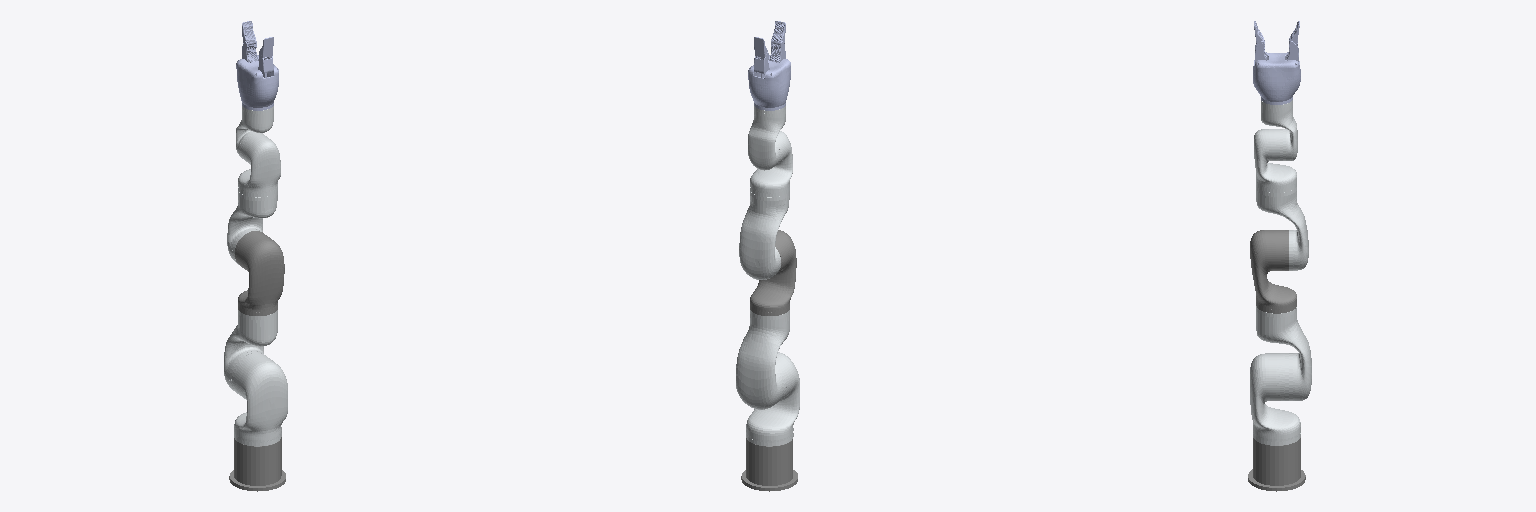
robot.urdf — mra7a:
<?xml version="1.0" ?>
<!-- =================================================================================== -->
<!-- |    modified by lmn        | -->
<!-- |    1.joint fixed's z = 0; old is 0.5                                            | -->
<!-- |    2.all joint limit: id2(2.35->2.18); id4(2.35->2.3); id6(2.35->2.05)         | -->
<!-- =================================================================================== -->


<!-- =================================================================================== -->
<!-- |    This document was autogenerated by xacro from mra7a_gazebo.urdf.xacro        | -->
<!-- |    EDITING THIS FILE BY HAND IS NOT RECOMMENDED                                 | -->
<!-- =================================================================================== -->
<robot name="mra7a" xmlns:xacro="http://www.ros.org/wiki/xacro">
  <!-- gazebo plugin -->
  <!-- transmission -->
  <!-- plugin -->
  <!-- ros_control plugin -->
  <gazebo>
    <plugin filename="libgazebo_ros_control.so" name="gazebo_ros_control">
      <robotNamespace>/seven_dof_arm</robotNamespace>
    </plugin>
  </gazebo>
  <!--
  <gazebo>
    <plugin name="joint_state_publisher" 
            filename="libgazebo_ros_joint_state_publisher.so">
      <jointName>Joint1, Joint2, Joint3, Joint4, Joint5, Joint6, Joint7, left_gripper_Joint, right_gripper_Joint</jointName>
    </plugin>
  </gazebo>
-->
  <link name="world"/>
  <!-- base_link -->
  <link name="base_link">
    <inertial>
      <origin rpy="0 0 0" xyz="1.58780600757876E-17 1.16524520215829E-17 0.042502057419515"/>
      <mass value="0.474965549491937"/>
      <inertia ixx="0.00102796097257156" ixy="3.04931861011564E-20" ixz="-2.46655622129667E-19" iyy="0.00102796097257156" iyz="-2.10531007350427E-19" izz="0.00113370981926284"/>
    </inertial>
    <visual>
      <origin rpy="0 0 0" xyz="0 0 0"/>
      <geometry>
        <mesh filename="package://mra7a_description/meshes/base_link.STL"/>
      </geometry>
      <material name="">
        <color rgba="0.6 0.6 0.6 1"/>
      </material>
    </visual>
    <collision>
      <origin rpy="0 0 0" xyz="0 0 0"/>
      <geometry>
        <mesh filename="package://mra7a_description/meshes/base_link.STL"/>
      </geometry>
    </collision>
  </link>
  <!-- Fixed joint -->
  <joint name="fixed" type="fixed">
    <origin rpy="0 0 0" xyz="0 0 0.0"/> <!--old Z is 0.5 -->
    <parent link="world"/>
    <child link="base_link"/>
  </joint>
  <!-- Link1 -->
  <link name="Link1">
    <inertial>
      <origin rpy="0 0 0" xyz="-5.67865757398612E-05 -0.0140433283731522 0.0860916007886425"/>
      <mass value="0.484821739605689"/>
      <inertia ixx="0.00190386145326369" ixy="-7.3188419055639E-08" ixz="-7.58568324322761E-07" iyy="0.00198491585396" iyz="-0.00012574957933702" izz="0.000907237431346532"/>
    </inertial>
    <visual>
      <origin rpy="0 0 0" xyz="0 0 0"/>
      <geometry>
        <mesh filename="package://mra7a_description/meshes/Link1.STL"/>
      </geometry>
      <material name="">
        <color rgba="0.898039215686275 0.917647058823529 0.929411764705882 1"/>
      </material>
    </visual>
    <collision>
      <origin rpy="0 0 0" xyz="0 0 0"/>
      <geometry>
        <mesh filename="package://mra7a_description/meshes/Link1.STL"/>
      </geometry>
    </collision>
  </link>
  <!-- Joint1 -->
  <joint name="Joint1" type="revolute">
    <origin rpy="0 0 0" xyz="0 0 0.0999"/>
    <parent link="base_link"/>
    <child link="Link1"/>
    <axis xyz="0 0 1"/>
    <limit effort="90" lower="-3.05" upper="3.05" velocity="1.31"/>
  </joint>
  <!-- Link2 -->
  <link name="Link2">
    <inertial>
      <origin rpy="0 0 0" xyz="-6.69829950373753E-06 -0.0688237660038895 0.0293828169205754"/>
      <mass value="0.451297334389399"/>
      <inertia ixx="0.00221375672762505" ixy="-2.28618652653104E-07" ixz="-5.69361377207988E-08" iyy="0.00086071914429245" iyz="0.000565127774492468" izz="0.00211087682023335"/>
    </inertial>
    <visual>
      <origin rpy="0 0 0" xyz="0 0 0"/>
      <geometry>
        <mesh filename="package://mra7a_description/meshes/Link2.STL"/>
      </geometry>
      <material name="">
        <color rgba="0.898039215686275 0.917647058823529 0.929411764705882 1"/>
      </material>
    </visual>
    <collision>
      <origin rpy="0 0 0" xyz="0 0 0"/>
      <geometry>
        <mesh filename="package://mra7a_description/meshes/Link2.STL"/>
      </geometry>
    </collision>
  </link>
  <!-- Joint2 -->
  <joint name="Joint2" type="revolute">
    <origin rpy="-1.5708 0 0" xyz="0 0 0.1341"/>
    <parent link="Link1"/>
    <child link="Link2"/>
    <axis xyz="0 0 1"/>
    <limit effort="90" lower="-2.18" upper="2.18" velocity="1.31"/>
  </joint>
  <!-- Link3 -->
  <link name="Link3">
    <inertial>
      <origin rpy="0 0 0" xyz="-1.6761782916957E-05 -0.014503818618556 0.0821858705585297"/>
      <mass value="0.374717774772796"/>
      <inertia ixx="0.00126530640796233" ixy="-1.62222439577013E-07" ixz="-3.93589373682424E-07" iyy="0.00128269848650926" iyz="-6.66770058678905E-05" izz="0.00052745105806111"/>
    </inertial>
    <visual>
      <origin rpy="0 0 0" xyz="0 0 0"/>
      <geometry>
        <mesh filename="package://mra7a_description/meshes/Link3.STL"/>
      </geometry>
      <material name="">
        <color rgba="0.6 0.6 0.6 1"/>
      </material>
    </visual>
    <collision>
      <origin rpy="0 0 0" xyz="0 0 0"/>
      <geometry>
        <mesh filename="package://mra7a_description/meshes/Link3.STL"/>
      </geometry>
    </collision>
  </link>
  <!-- Joint3 -->
  <joint name="Joint3" type="revolute">
    <origin rpy="1.5708 0 -1.1102E-16" xyz="0 -0.1659 0"/>
    <parent link="Link2"/>
    <child link="Link3"/>
    <axis xyz="0 0 1"/>
    <limit effort="67" lower="-3.05" upper="3.05" velocity="1.31"/>
  </joint>
  <!-- Link4 -->
  <link name="Link4">
    <inertial>
      <origin rpy="0 0 0" xyz="-1.12602407827841E-05 -0.0676246386478926 0.026015498826292"/>
      <mass value="0.304329731561178"/>
      <inertia ixx="0.00130027130717768" ixy="-1.42798909943852E-08" ixz="-1.53500377244814E-07" iyy="0.000492188219655464" iyz="0.000333857285617771" izz="0.00124617372894817"/>
    </inertial>
    <visual>
      <origin rpy="0 0 0" xyz="0 0 0"/>
      <geometry>
        <mesh filename="package://mra7a_description/meshes/Link4.STL"/>
      </geometry>
      <material name="">
        <color rgba="0.898039215686275 0.917647058823529 0.929411764705882 1"/>
      </material>
    </visual>
    <collision>
      <origin rpy="0 0 0" xyz="0 0 0"/>
      <geometry>
        <mesh filename="package://mra7a_description/meshes/Link4.STL"/>
      </geometry>
    </collision>
  </link>
  <!-- Joint4 -->
  <joint name="Joint4" type="revolute">
    <origin rpy="-1.5708 1.1102E-16 1.3617E-16" xyz="0 0 0.1261"/>
    <parent link="Link3"/>
    <child link="Link4"/>
    <axis xyz="0 0 1"/>
    <limit effort="67" lower="-2.3" upper="2.3" velocity="1.31"/>
  </joint>
  <!-- Link5 -->
  <link name="Link5">
    <inertial>
      <origin rpy="0 0 0" xyz="-3.06274495444802E-05 -0.0108974394200068 0.0523693738754832"/>
      <mass value="0.213409797645465"/>
      <inertia ixx="0.000440858123321773" ixy="1.44479438568004E-07" ixz="9.31649373938296E-08" iyy="0.000436913304189732" iyz="-5.42340102456064E-05" izz="0.000258832985468246"/>
    </inertial>
    <visual>
      <origin rpy="0 0 0" xyz="0 0 0"/>
      <geometry>
        <mesh filename="package://mra7a_description/meshes/Link5.STL"/>
      </geometry>
      <material name="">
        <color rgba="0.898039215686275 0.917647058823529 0.929411764705882 1"/>
      </material>
    </visual>
    <collision>
      <origin rpy="0 0 0" xyz="0 0 0"/>
      <geometry>
        <mesh filename="package://mra7a_description/meshes/Link5.STL"/>
      </geometry>
    </collision>
  </link>
  <!-- Joint5 -->
  <joint name="Joint5" type="revolute">
    <origin rpy="1.5708 1.3617E-16 8.3267E-16" xyz="0 -0.1511 0"/>
    <parent link="Link4"/>
    <child link="Link5"/>
    <axis xyz="0 0 1"/>
    <limit effort="67" lower="-3.05" upper="3.05" velocity="1.57"/>
  </joint>
  <!-- Link6 -->
  <link name="Link6">
    <inertial>
      <origin rpy="0 0 0" xyz="6.35965394519631E-05 -0.0464874244752261 0.0142268710300685"/>
      <mass value="0.154125590195249"/>
      <inertia ixx="0.000339720264711383" ixy="-3.43204817014535E-07" ixz="-2.31101462550568E-07" iyy="0.000149787039342989" iyz="7.62748033955854E-05" izz="0.000332976766047"/>
    </inertial>
    <visual>
      <origin rpy="0 0 0" xyz="0 0 0"/>
      <geometry>
        <mesh filename="package://mra7a_description/meshes/Link6.STL"/>
      </geometry>
      <material name="">
        <color rgba="0.898039215686275 0.917647058823529 0.929411764705882 1"/>
      </material>
    </visual>
    <collision>
      <origin rpy="0 0 0" xyz="0 0 0"/>
      <geometry>
        <mesh filename="package://mra7a_description/meshes/Link6.STL"/>
      </geometry>
    </collision>
  </link>
  <!-- Joint6 -->
  <joint name="Joint6" type="revolute">
    <origin rpy="-1.5708 -8.3267E-16 1.3617E-16" xyz="0 0 0.0909"/>
    <parent link="Link5"/>
    <child link="Link6"/>
    <axis xyz="0 0 1"/>
    <limit effort="67" lower="-2.05" upper="2.05" velocity="1.57"/>
  </joint>
  <!-- Link7 -->
  <link name="Link7">
    <inertial>
      <origin rpy="0 0 0" xyz="3.92549564291853E-05 -1.41203694746798E-07 0.0458459470285104"/>
      <mass value="0.0893166549830954"/>
      <inertia ixx="0.000137053323762152" ixy="-1.67918184744521E-08" ixz="7.94795260497552E-08" iyy="0.000116218332092996" iyz="1.55881544355394E-09" izz="0.000111067976303793"/>
    </inertial>
    <visual>
      <origin rpy="0 0 0" xyz="0 0 0"/>
      <geometry>
        <mesh filename="package://mra7a_description/meshes/Link7.STL"/>
      </geometry>
      <material name="">
        <color rgba="0.792156862745098 0.819607843137255 0.933333333333333 1"/>
      </material>
    </visual>
    <collision>
      <origin rpy="0 0 0" xyz="0 0 0"/>
      <geometry>
        <mesh filename="package://mra7a_description/meshes/Link7.STL"/>
      </geometry>
    </collision>
  </link>
  <!-- Joint7 -->
  <joint name="Joint7" type="revolute">
    <origin rpy="1.5708 1.3617E-16 -1.3861E-32" xyz="0 -0.1071 0"/>
    <parent link="Link6"/>
    <child link="Link7"/>
    <axis xyz="0 0 1"/>
    <limit effort="1.57" lower="-3.05" upper="3.05" velocity="33"/>
  </joint>
  <!-- right_gripper_Link -->
  <link name="right_gripper_Link">
    <inertial>
      <origin rpy="0 0 0" xyz="-0.0115559850544431 0.0429192295848498 2.31562025767919E-05"/>
      <mass value="0.0284916778213195"/>
      <inertia ixx="1.39778331348669E-05" ixy="-2.30051956866705E-06" ixz="-8.66823680494399E-09" iyy="2.88125847185164E-06" iyz="1.94235786524353E-08" izz="1.3466640307517E-05"/>
    </inertial>
    <visual>
      <origin rpy="0 0 0" xyz="0 0 0"/>
      <geometry>
        <mesh filename="package://mra7a_description/meshes/right_gripper_Link.STL"/>
      </geometry>
      <material name="">
        <color rgba="0.792156862745098 0.819607843137255 0.933333333333333 1"/>
      </material>
    </visual>
    <collision>
      <origin rpy="0 0 0" xyz="0 0 0"/>
      <geometry>
        <mesh filename="package://mra7a_description/meshes/right_gripper_Link.STL"/>
      </geometry>
    </collision>
  </link>
  <!-- right_gripper_Joint -->
  <joint name="right_gripper_Joint" type="revolute">
    <origin rpy="1.5708 0 -1.5708" xyz="0 0.025 0.0875"/>
    <parent link="Link7"/>
    <child link="right_gripper_Link"/>
    <axis xyz="0 0 1"/>
    <limit effort="33" lower="-0.52" upper="0.52" velocity="1.57"/>
  </joint>
  <!-- left_gripper_Link -->
  <link name="left_gripper_Link">
    <inertial>
      <origin rpy="0 0 0" xyz="0.0115559840579099 0.0429192252418339 -2.3156247749568E-05"/>
      <mass value="0.0284916775874153"/>
      <inertia ixx="1.39778395181089E-05" ixy="2.30052096260555E-06" ixz="-8.66793994093481E-09" iyy="2.88125871466953E-06" iyz="-1.94222991506541E-08" izz="1.34666468491224E-05"/>
    </inertial>
    <visual>
      <origin rpy="0 0 0" xyz="0 0 0"/>
      <geometry>
        <mesh filename="package://mra7a_description/meshes/left_gripper_Link.STL"/>
      </geometry>
      <material name="">
        <color rgba="0.792156862745098 0.819607843137255 0.933333333333333 1"/>
      </material>
    </visual>
    <collision>
      <origin rpy="0 0 0" xyz="0 0 0"/>
      <geometry>
        <mesh filename="package://mra7a_description/meshes/left_gripper_Link.STL"/>
      </geometry>
    </collision>
  </link>
  <!-- left_gripper_Joint -->
  <joint name="left_gripper_Joint" type="revolute">
    <origin rpy="1.5708 0 -1.5708" xyz="0 -0.025 0.0875"/>
    <parent link="Link7"/>
    <child link="left_gripper_Link"/>
    <axis xyz="0 0 1"/>
    <limit effort="33" lower="-0.52" upper="0.52" velocity="1.57"/>
  </joint>
  <transmission name="tran1">
    <type>transmission_interface/SimpleTransmission</type>
    <joint name="Joint1">
      <hardwareInterface>PositionJointInterface</hardwareInterface>
    </joint>
    <actuator name="motor1">
      <hardwareInterface>PositionJointInterface</hardwareInterface>
      <mechanicalReduction>1</mechanicalReduction>
    </actuator>
  </transmission>
  <transmission name="tran2">
    <type>transmission_interface/SimpleTransmission</type>
    <joint name="Joint2">
      <hardwareInterface>PositionJointInterface</hardwareInterface>
    </joint>
    <actuator name="motor2">
      <hardwareInterface>PositionJointInterface</hardwareInterface>
      <mechanicalReduction>1</mechanicalReduction>
    </actuator>
  </transmission>
  <transmission name="tran3">
    <type>transmission_interface/SimpleTransmission</type>
    <joint name="Joint3">
      <hardwareInterface>PositionJointInterface</hardwareInterface>
    </joint>
    <actuator name="motor3">
      <hardwareInterface>PositionJointInterface</hardwareInterface>
      <mechanicalReduction>1</mechanicalReduction>
    </actuator>
  </transmission>
  <transmission name="tran4">
    <type>transmission_interface/SimpleTransmission</type>
    <joint name="Joint4">
      <hardwareInterface>PositionJointInterface</hardwareInterface>
    </joint>
    <actuator name="motor4">
      <hardwareInterface>PositionJointInterface</hardwareInterface>
      <mechanicalReduction>1</mechanicalReduction>
    </actuator>
  </transmission>
  <transmission name="tran5">
    <type>transmission_interface/SimpleTransmission</type>
    <joint name="Joint5">
      <hardwareInterface>PositionJointInterface</hardwareInterface>
    </joint>
    <actuator name="motor5">
      <hardwareInterface>PositionJointInterface</hardwareInterface>
      <mechanicalReduction>1</mechanicalReduction>
    </actuator>
  </transmission>
  <transmission name="tran6">
    <type>transmission_interface/SimpleTransmission</type>
    <joint name="Joint6">
      <hardwareInterface>PositionJointInterface</hardwareInterface>
    </joint>
    <actuator name="motor6">
      <hardwareInterface>PositionJointInterface</hardwareInterface>
      <mechanicalReduction>1</mechanicalReduction>
    </actuator>
  </transmission>
  <transmission name="tran7">
    <type>transmission_interface/SimpleTransmission</type>
    <joint name="Joint7">
      <hardwareInterface>PositionJointInterface</hardwareInterface>
    </joint>
    <actuator name="motor7">
      <hardwareInterface>PositionJointInterface</hardwareInterface>
      <mechanicalReduction>1</mechanicalReduction>
    </actuator>
  </transmission>
  <transmission name="tran8">
    <type>transmission_interface/SimpleTransmission</type>
    <joint name="right_gripper_Joint">
      <hardwareInterface>PositionJointInterface</hardwareInterface>
    </joint>
    <actuator name="motor8">
      <hardwareInterface>PositionJointInterface</hardwareInterface>
      <mechanicalReduction>1</mechanicalReduction>
    </actuator>
  </transmission>
  <transmission name="tran9">
    <type>transmission_interface/SimpleTransmission</type>
    <joint name="left_gripper_Joint">
      <hardwareInterface>PositionJointInterface</hardwareInterface>
    </joint>
    <actuator name="motor9">
      <hardwareInterface>PositionJointInterface</hardwareInterface>
      <mechanicalReduction>1</mechanicalReduction>
    </actuator>
  </transmission>
  <gazebo reference="base_link">
    <visual name="gazeboo_color_base_link">
      <material>
        <script>
          <uri>file://media/materials/scripts/gazebo.material</uri>
          <name>Gazebo/FlatBlack</name>
        </script>
      </material>
    </visual>
  </gazebo>
  <gazebo reference="Link1">
    <visual name="gazebo_color_Link1">
      <material>
        <script>
          <uri>file://media/materials/scripts/gazebo.material</uri>
          <name>Gazebo/Orange</name>
        </script>
      </material>
    </visual>
  </gazebo>
  <gazebo reference="Link2">
    <visual name="gazebo_color_Link2">
      <material>
        <script>
          <uri>file://media/materials/scripts/gazebo.material</uri>
          <name>Gazebo/Orange</name>
        </script>
      </material>
    </visual>
  </gazebo>
  <gazebo reference="Link3">
    <visual name="gazebo_color_Link3">
      <material>
        <script>
          <uri>file://media/materials/scripts/gazebo.material</uri>
          <name>Gazebo/Orange</name>
        </script>
      </material>
    </visual>
  </gazebo>
  <gazebo reference="Link4">
    <visual name="gazebo_color_Link4">
      <material>
        <script>
          <uri>file://media/materials/scripts/gazebo.material</uri>
          <name>Gazebo/Orange</name>
        </script>
      </material>
    </visual>
  </gazebo>
  <gazebo reference="Link5">
    <visual name="gazebo_color_Link5">
      <material>
        <script>
          <uri>file://media/materials/scripts/gazebo.material</uri>
          <name>Gazebo/Orange</name>
        </script>
      </material>
    </visual>
  </gazebo>
  <gazebo reference="Link6">
    <visual name="gazebo_color_Link6">
      <material>
        <script>
          <uri>file://media/materials/scripts/gazebo.material</uri>
          <name>Gazebo/Orange</name>
        </script>
      </material>
    </visual>
  </gazebo>
  <gazebo reference="Link7">
    <visual name="gazebo_color_Link7">
      <material>
        <ambient>0.792156862745098 0.819607843137255 0.933333333333333 1</ambient>
        <diffuse>0.792156862745098 0.819607843137255 0.933333333333333 1</diffuse>
        <specular>0.1 0.1 0.1 1</specular>
        <emissive>0 0 0 0</emissive>
      </material>
    </visual>
  </gazebo>
  <gazebo reference="left_gripper_Link">
    <visual name="gazebo_color_left_gripper">
      <material>
        <ambient>0.792156862745098 0.819607843137255 0.933333333333333 1</ambient>
        <diffuse>0.792156862745098 0.819607843137255 0.933333333333333 1</diffuse>
        <specular>0.1 0.1 0.1 1</specular>
        <emissive>0 0 0 0</emissive>
      </material>
    </visual>
  </gazebo>
  <gazebo reference="right_gripper_Link">
    <visual name="gazebo_color_right_gripper">
      <material>
        <ambient>0.792156862745098 0.819607843137255 0.933333333333333 1</ambient>
        <diffuse>0.792156862745098 0.819607843137255 0.933333333333333 1</diffuse>
        <specular>0.1 0.1 0.1 1</specular>
        <emissive>0 0 0 0</emissive>
      </material>
    </visual>
  </gazebo>
</robot>

--- Render facts (derived) ---
The picture shows the robot from 3 angles, left to right: view 1: azimuth 30°, elevation 25°; view 2: azimuth 150°, elevation 25°; view 3: azimuth 270°, elevation 25°; orthographic projection.
Robot: mra7a — 11 links, 10 joints (9 revolute, 1 fixed); root link world; default pose: every joint at zero.
Links seen in each view (by area): view 1: Link1, Link3, base_link, Link5, Link2, Link7, Link4, Link6, right_gripper_Link; view 2: Link2, Link4, Link1, base_link, Link3, Link6, Link7, Link5, left_gripper_Link; view 3: Link1, Link3, Link2, base_link, Link5, Link7, Link4, Link6.
Boxes of the visible links, x1=… form: Link1: x1=232, y1=353, x2=287, y2=446; Link3: x1=235, y1=231, x2=284, y2=315; base_link: x1=229, y1=437, x2=285, y2=491; Link5: x1=238, y1=133, x2=280, y2=197; Link2: x1=224, y1=310, x2=277, y2=390; Link7: x1=236, y1=55, x2=278, y2=110; Link4: x1=227, y1=191, x2=277, y2=264; Link6: x1=236, y1=106, x2=273, y2=158; right_gripper_Link: x1=242, y1=21, x2=257, y2=62; Link2: x1=736, y1=310, x2=789, y2=409; Link4: x1=739, y1=191, x2=789, y2=279; Link1: x1=746, y1=352, x2=799, y2=446; base_link: x1=741, y1=438, x2=797, y2=491; Link3: x1=750, y1=230, x2=796, y2=315; Link6: x1=748, y1=106, x2=785, y2=170; Link7: x1=748, y1=55, x2=790, y2=110; Link5: x1=750, y1=131, x2=792, y2=196; left_gripper_Link: x1=770, y1=21, x2=785, y2=62; Link1: x1=1250, y1=353, x2=1300, y2=445; Link3: x1=1250, y1=230, x2=1296, y2=313; Link2: x1=1256, y1=306, x2=1311, y2=400; base_link: x1=1248, y1=437, x2=1305, y2=491; Link5: x1=1254, y1=129, x2=1296, y2=192; Link7: x1=1253, y1=52, x2=1300, y2=104; Link4: x1=1256, y1=185, x2=1308, y2=270; Link6: x1=1261, y1=100, x2=1297, y2=160.
Bounding box of the posed robot: 0.12 × 0.1331 × 1.05 m (x, y, z).
Meshes: 10 distinct files referenced, 10 mesh visuals loaded (10 binary STL).
